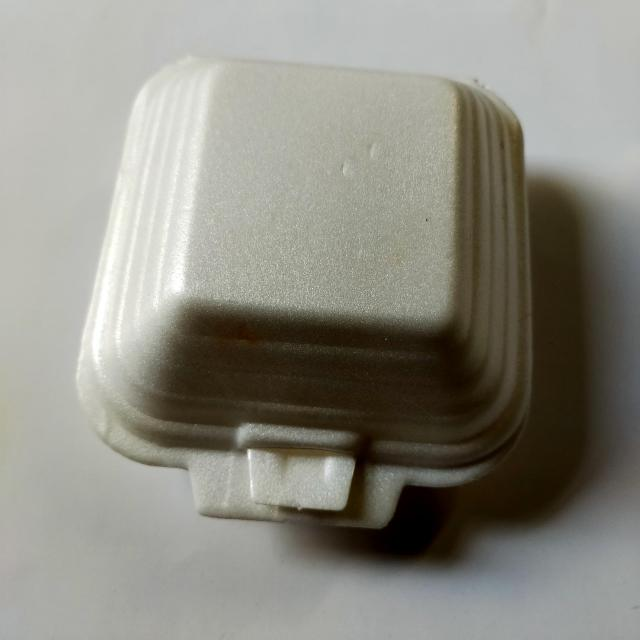styrofoam: (74, 52, 535, 533)
